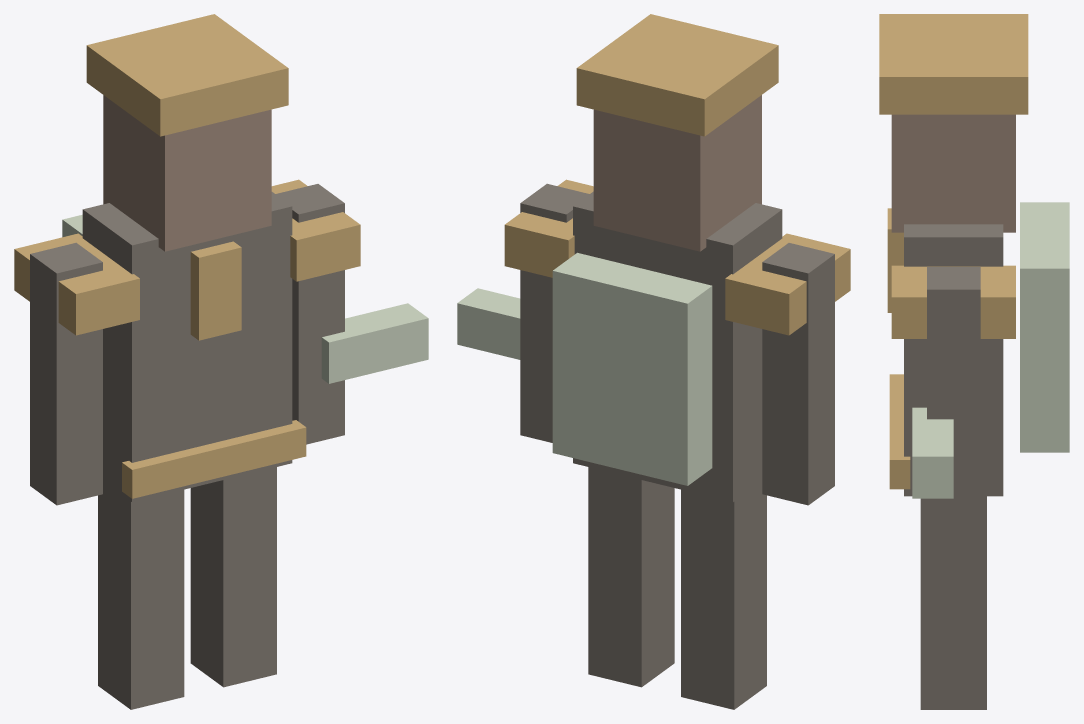
File: 19_quill_tideforged_captain_under_resonance.glb
3 views of the same model, side by side, from view 1: azimuth 30°, elevation 25°; view 2: azimuth 150°, elevation 25°; view 3: azimuth 270°, elevation 25° (orthographic).
Visible parts, largest first — view 1: Quill Tideforged, Captain under Resonance; view 2: Quill Tideforged, Captain under Resonance; view 3: Quill Tideforged, Captain under Resonance.
Part boxes in pixels (x1=…): Quill Tideforged, Captain under Resonance: x1=14, y1=14, x2=428, y2=709; Quill Tideforged, Captain under Resonance: x1=457, y1=14, x2=850, y2=709; Quill Tideforged, Captain under Resonance: x1=879, y1=14, x2=1069, y2=709.
Bounding box in the file's own units: 1.05 × 1.71 × 0.47.
